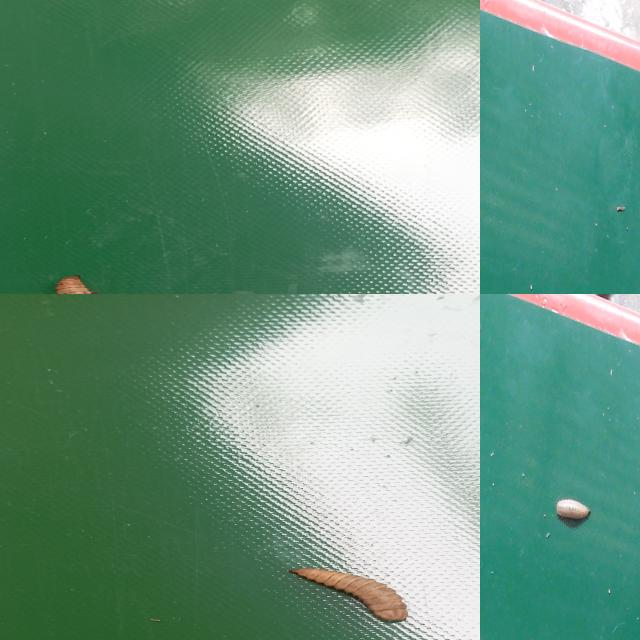Maggot: (293, 566, 411, 626), (554, 497, 591, 529), (55, 276, 99, 294)
